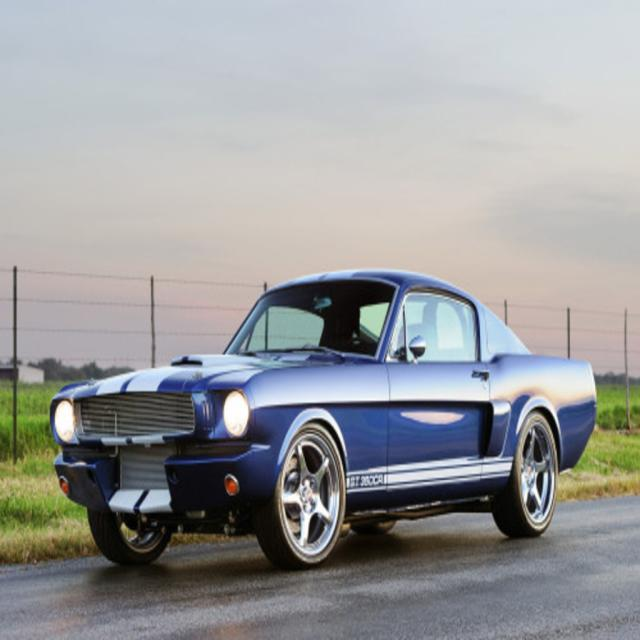car: (44, 272, 601, 575)
